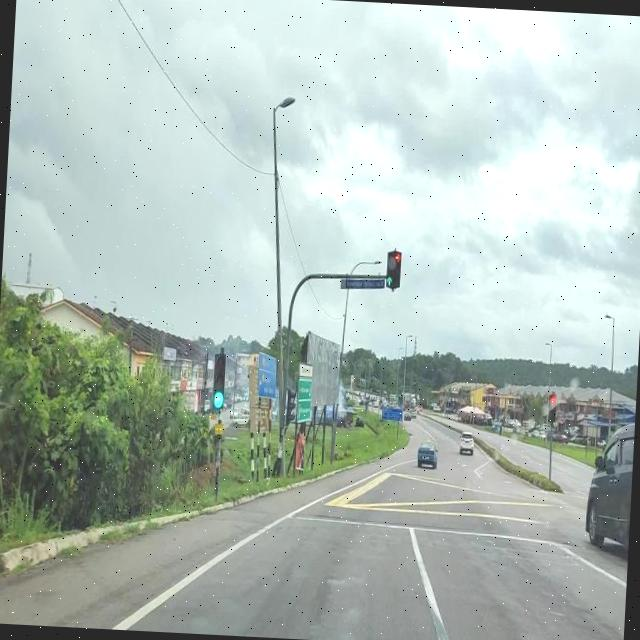green_light: (212, 354, 226, 411), (386, 250, 396, 286)
red_light: (394, 252, 402, 287), (548, 394, 556, 422)
